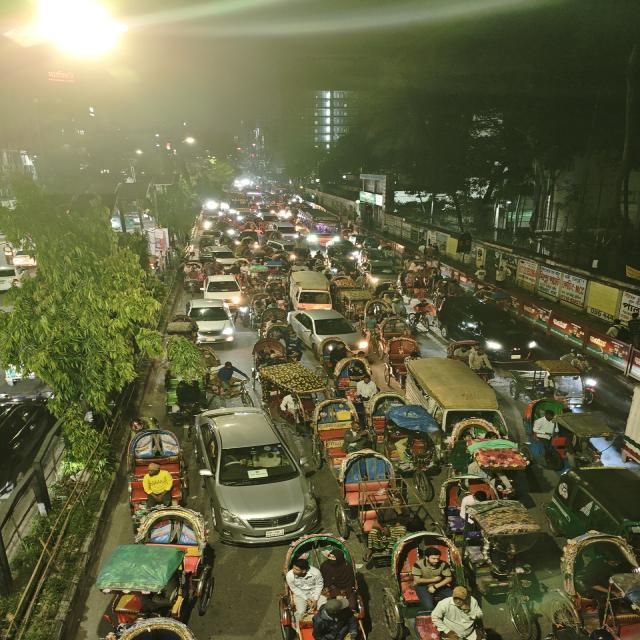bus: (192, 407, 318, 547), (296, 208, 342, 243)
car: (191, 408, 317, 548), (454, 301, 541, 359), (290, 307, 372, 353), (186, 300, 240, 344), (359, 250, 405, 288), (203, 272, 248, 304), (208, 249, 241, 268), (271, 222, 302, 240)
cng: (551, 467, 633, 538), (327, 242, 360, 269), (355, 234, 384, 252)
human_hauler: (407, 361, 503, 429), (279, 271, 332, 310)
pedestrian: (411, 297, 440, 336)
rickshaw: (88, 539, 220, 640), (396, 531, 492, 640), (118, 433, 183, 524), (373, 393, 443, 475), (453, 420, 531, 473), (250, 338, 306, 392), (310, 396, 358, 456), (538, 358, 594, 408), (384, 334, 420, 382), (333, 356, 369, 400), (250, 338, 290, 374), (333, 274, 366, 312), (164, 313, 202, 343), (378, 315, 407, 343)
